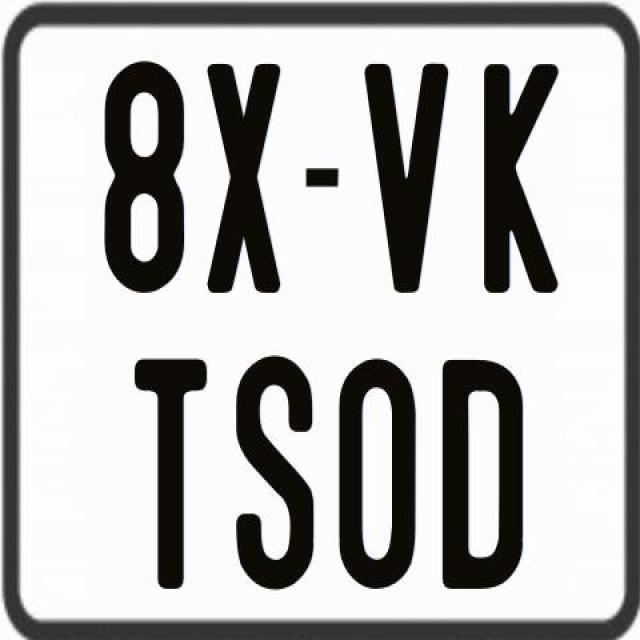0: (338, 357, 416, 589)
8: (102, 58, 190, 292)
D: (441, 360, 527, 589)
K: (482, 64, 558, 293)
S: (232, 354, 312, 590)
T: (134, 356, 212, 594)
V: (364, 64, 454, 296)
X: (207, 61, 284, 293)
